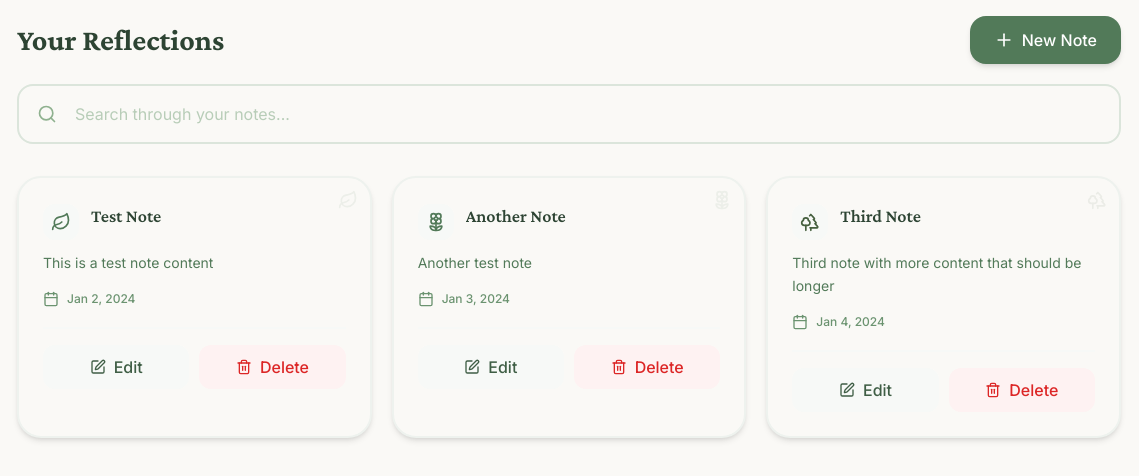
Test: NotesContainer Component › should filter notes based on search query
Expected: the heading "Test Note" is shown, [91, 206, 161, 226]
# Get search input and type
Type "Another" into the field with placeholder "Search through your notes..." at {"x": 569, "y": 114}, box [17, 84, 1121, 144]
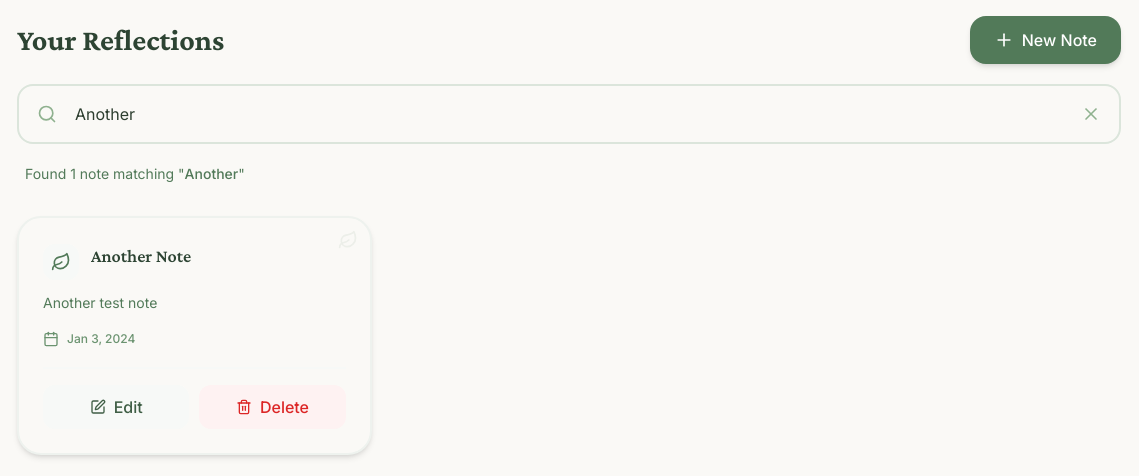
Expected: the heading "Another Note" is shown, [91, 246, 191, 266]
Expected: the text "Found 1 note matching \"Another\"" is shown, [25, 165, 245, 182]
